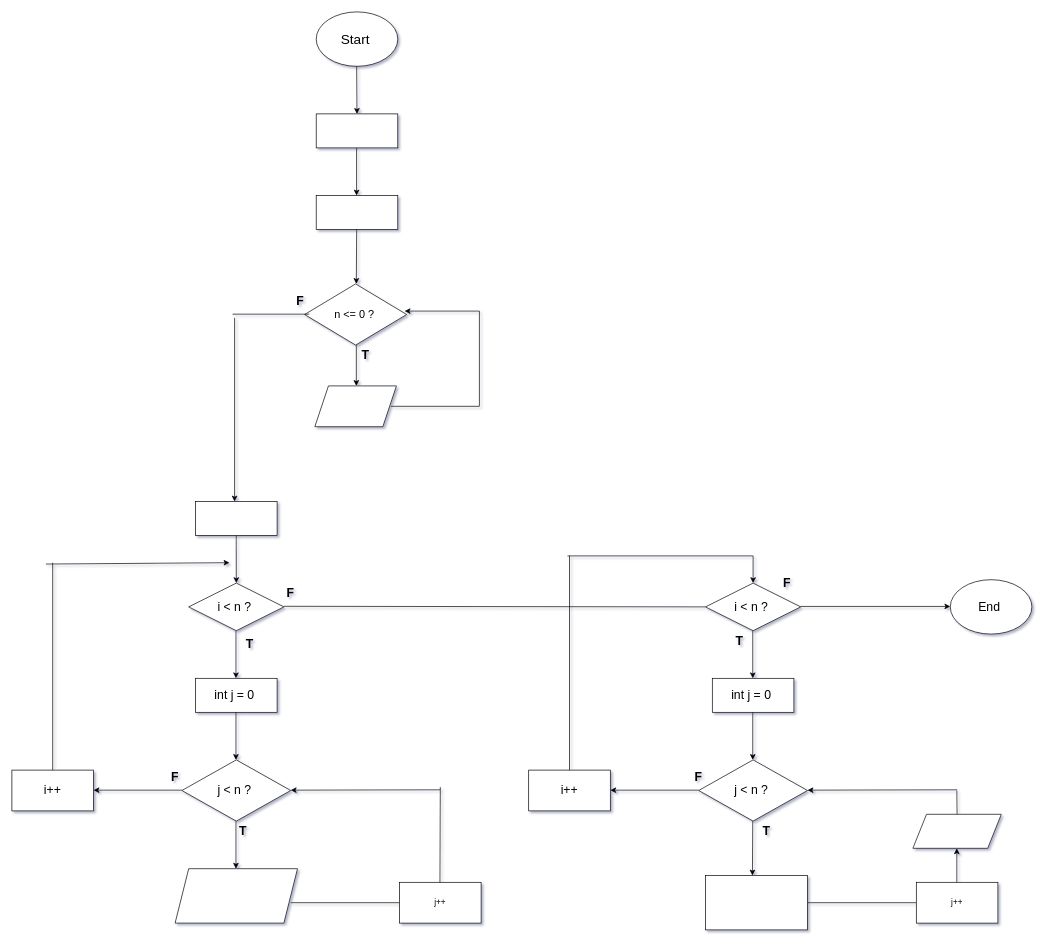
Image size: 1048x946. Some labels were removed from this diagram. Each missing label, with the centre of its shape:
b[i][j] = a[i][n-j-1]: the point at 756,902
int a[n][n]: the point at 357,212
int i = 0: the point at 236,518
int n: the point at 357,130
nhập a[i][j]: the point at 236,895
nhập n: the point at 355,406
xuất b[i][j]: the point at 956,831
